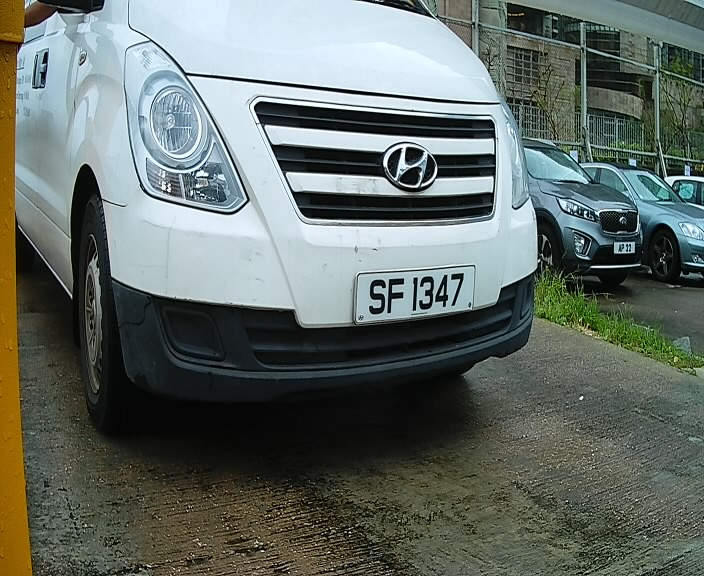Car: (18, 2, 539, 443)
License Plate: (337, 257, 492, 335)
